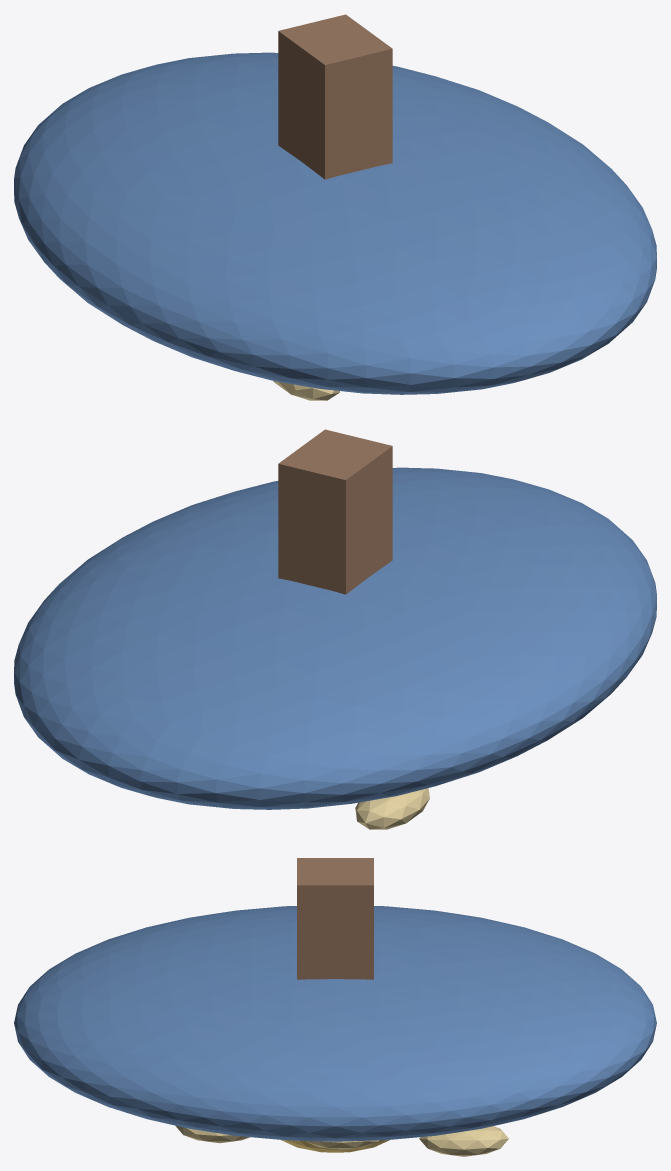
The model's file is captain_shield_blue_oval.glb.
3 renders of one model, top to bottom at view 1: azimuth 30°, elevation 25°; view 2: azimuth 150°, elevation 25°; view 3: azimuth 270°, elevation 25°, orthographic. The views are drawn at different scales.
Visible parts, largest first — view 1: blue_oval_body, rear_grip, laurel_detail_2; view 2: blue_oval_body, rear_grip, laurel_detail; view 3: blue_oval_body, rear_grip, laurel_detail_3, laurel_detail, boss, laurel_detail_4.
Part boxes in pixels (bbox=[...]): blue_oval_body: bbox=[14, 52, 656, 394]; rear_grip: bbox=[278, 14, 392, 179]; laurel_detail_2: bbox=[273, 381, 339, 400]; blue_oval_body: bbox=[14, 467, 656, 809]; rear_grip: bbox=[278, 429, 392, 594]; laurel_detail: bbox=[355, 788, 429, 829]; blue_oval_body: bbox=[14, 906, 656, 1141]; rear_grip: bbox=[297, 858, 373, 979]; laurel_detail_3: bbox=[419, 1126, 508, 1156]; laurel_detail: bbox=[175, 1125, 249, 1143]; boss: bbox=[281, 1140, 389, 1152]; laurel_detail_4: bbox=[305, 1140, 379, 1149].
Bounding box in the file's own units: 0.76 × 0.46 × 1.
